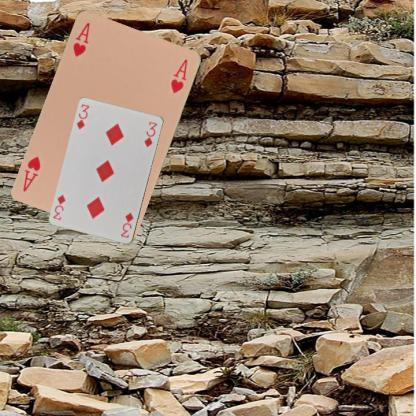3d: (74, 102, 91, 132), (118, 210, 134, 240)
Ah: (70, 19, 92, 58)
